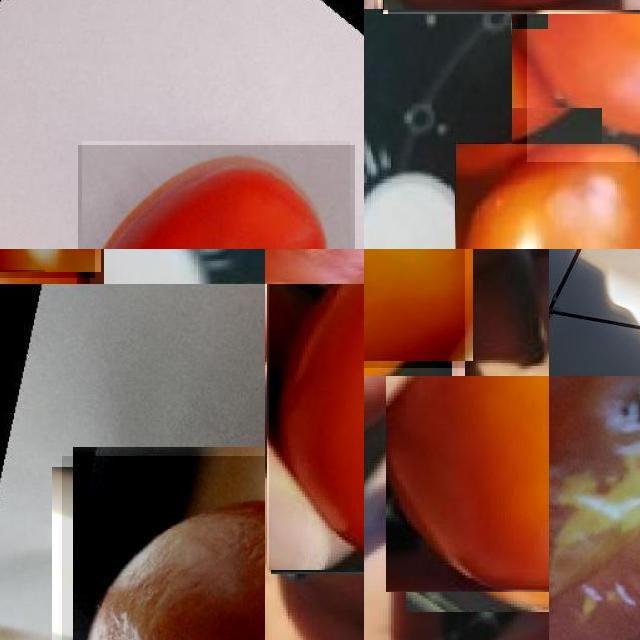0: (387, 376, 549, 591)
1: (549, 376, 640, 640)
Fresh Tomato: (78, 144, 354, 249), (269, 284, 364, 572), (454, 143, 640, 249), (527, 9, 640, 162), (0, 249, 95, 278)
Rotten Tomato: (62, 456, 265, 640)
